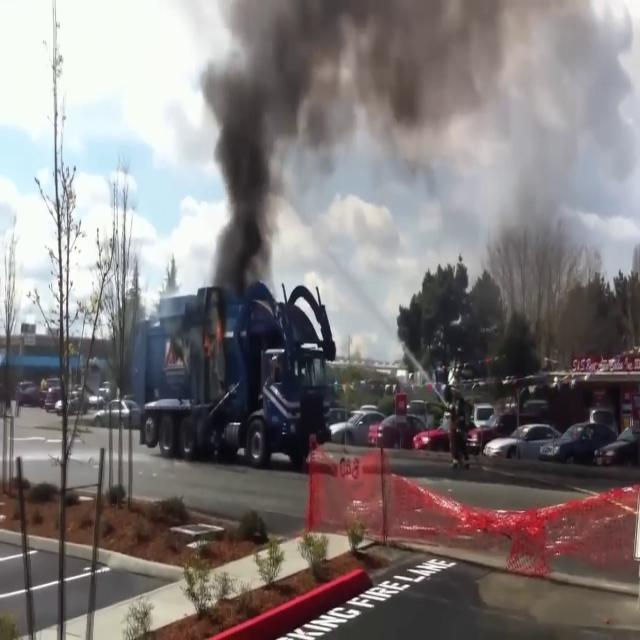Smoke: (201, 1, 353, 319)
